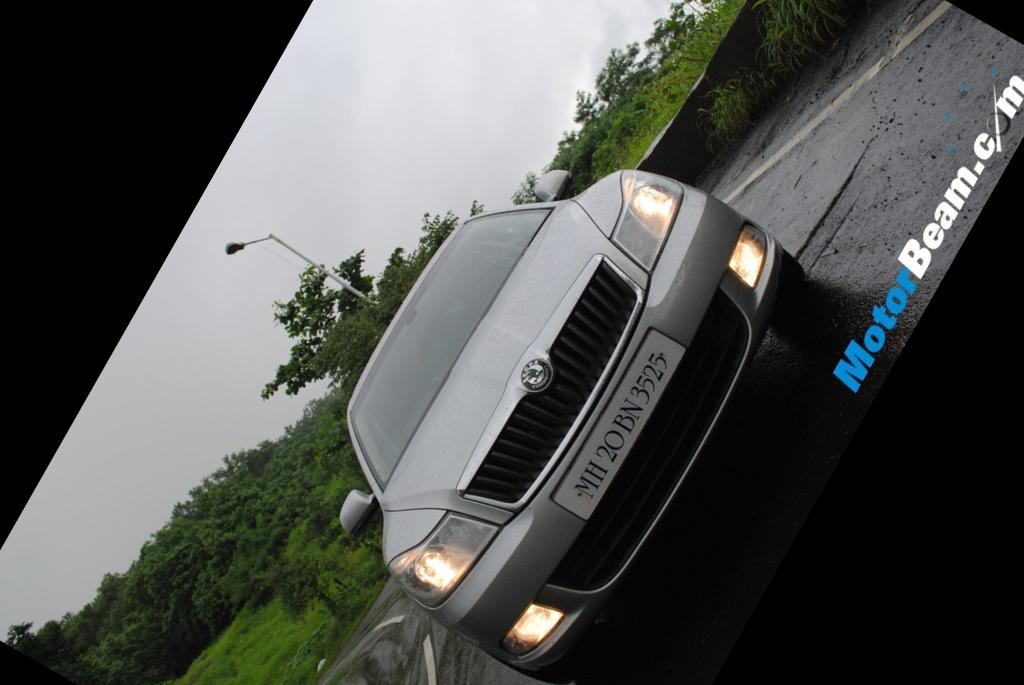plate: (545, 318, 700, 531)
